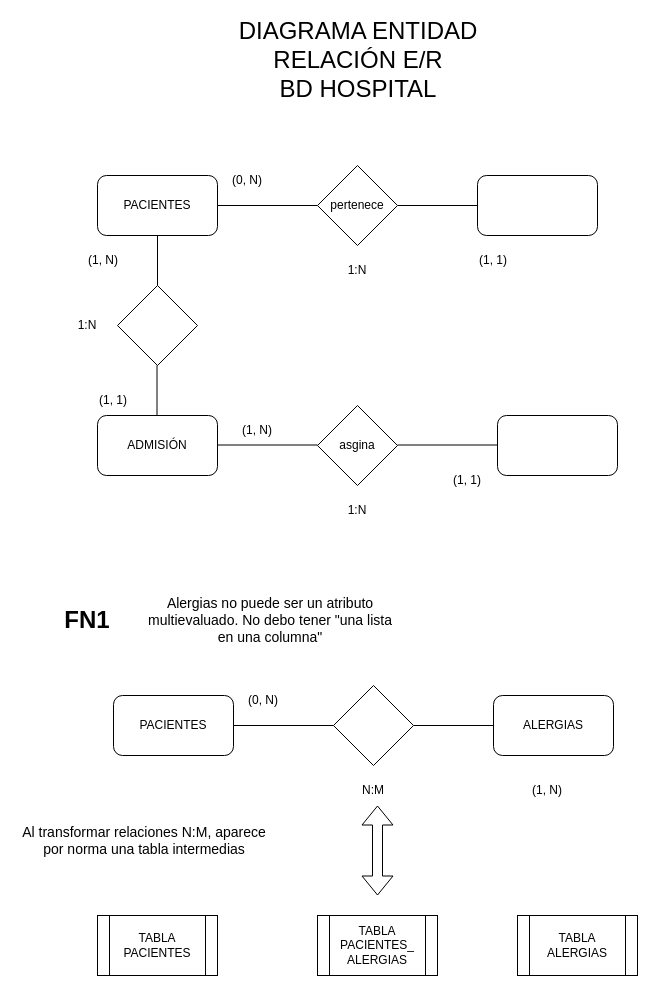
Some shapes in this 655 by 993 pixel diagram are drawn without their labels. Here are the shapes that lost their labels. From the top down, the centre of each, then its label:
At [537,205]: "PROVINCIAS".
At [157,325]: "registra".
At [557,445]: "DOCTORES".
At [373,725]: "padecen".
